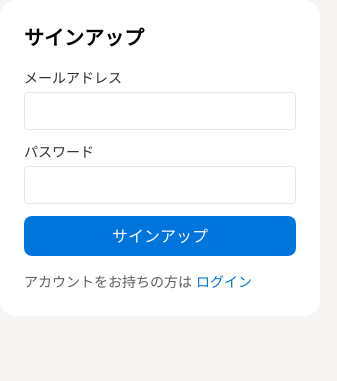
Test case: Signup › 未入力で送信するとバリデーションエラーを表示する
Click the button "サインアップ" at (160, 236), box [24,216,296,256]
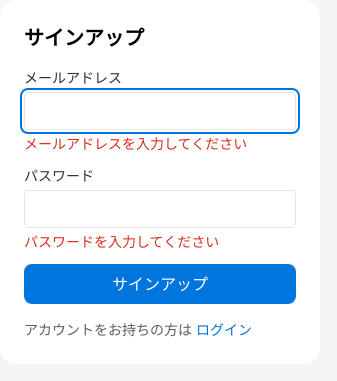
Expected: the text "メールアドレスを入力してください" is shown, [24,135,247,152]
